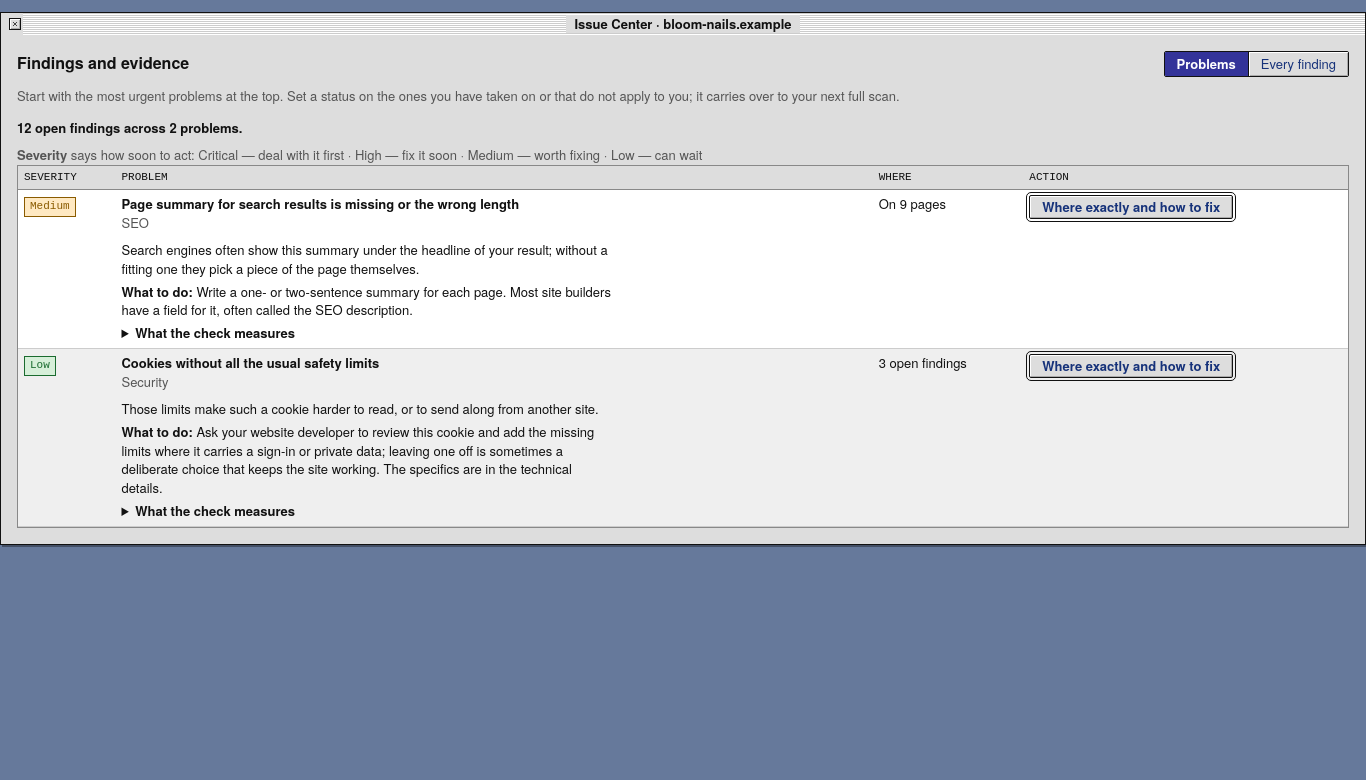
the Problems tab, pressed while one problem is open › clears the problem and shows the list of problems again
Note: Open one problem from the problem list.
Click the button "Where exactly and how to fix" next to "On 9 pages" at coordinates (1131, 207), box 1029,195 -> 1233,219
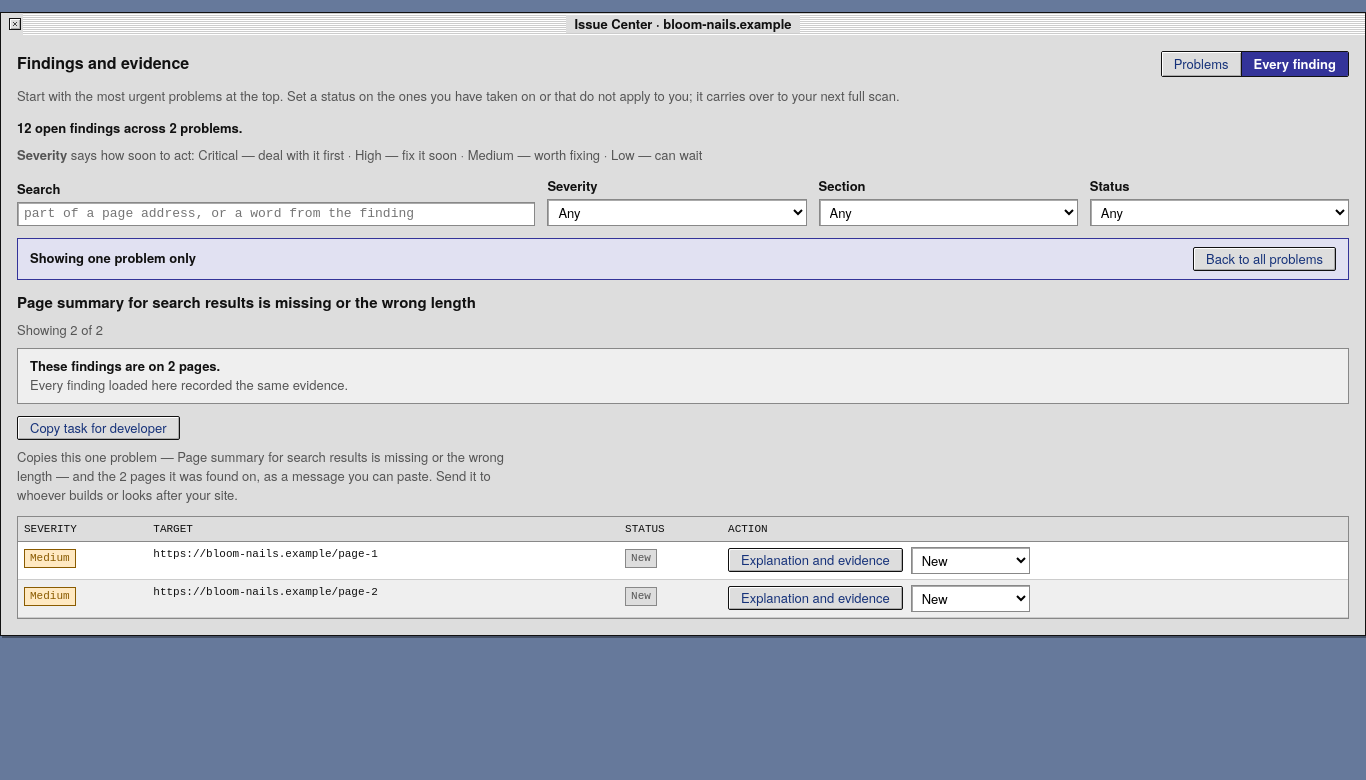
Result: the text "Showing one problem only" is shown at 30,249 -> 196,268
Note: The tab, not the "Show all problems" button beside the filter.
Click the button "Problems" at coordinates (1202, 64), box 1162,52 -> 1242,76
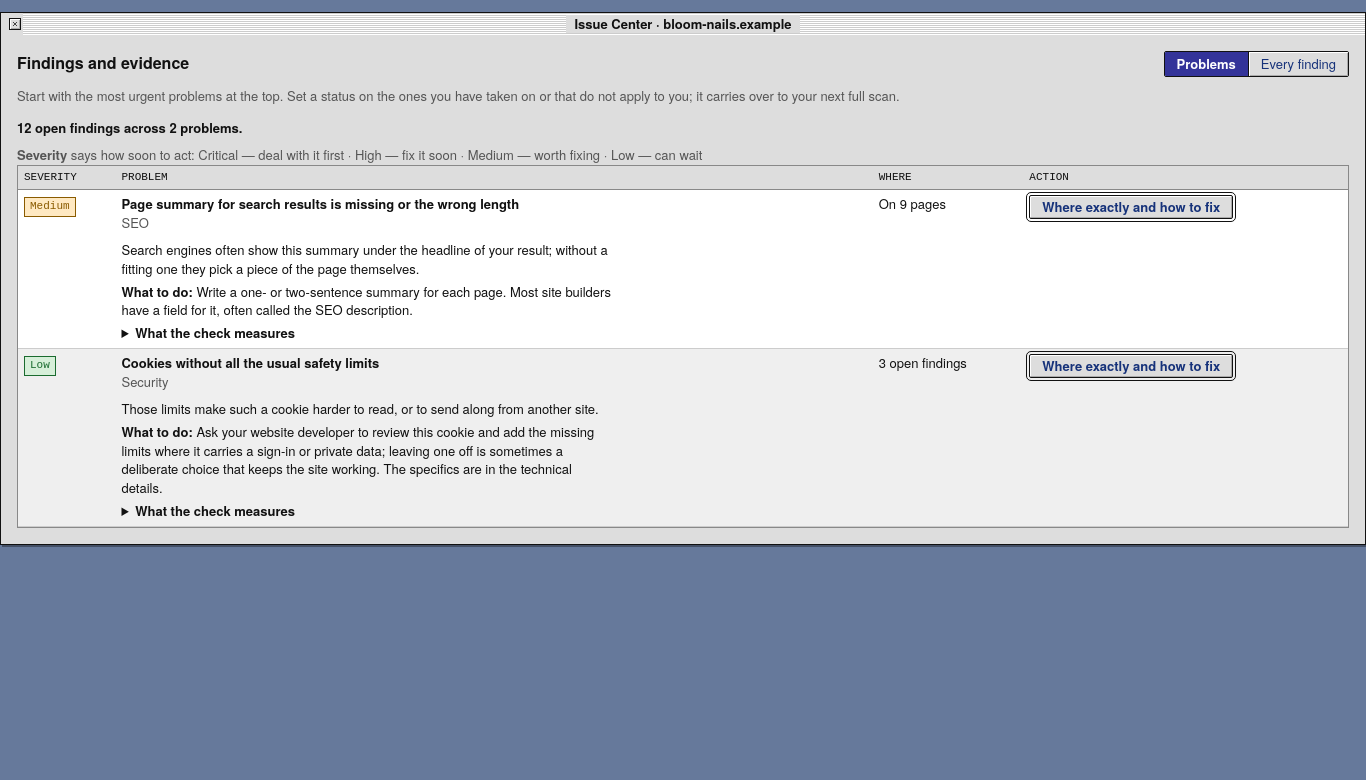
Expected: the number of rows is 3, 18,166 -> 1348,190; 18,190 -> 1348,349; 18,349 -> 1348,526
Result: the text "Showing one problem only" is gone
